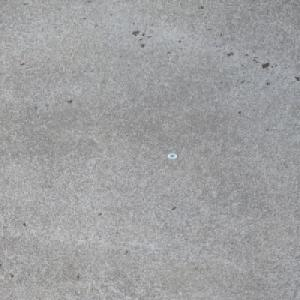Washer: (166, 152, 178, 159)
